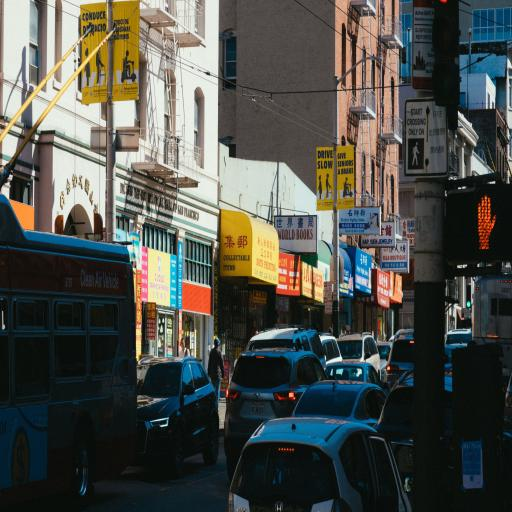car: (227, 418, 411, 511), (224, 346, 326, 479), (136, 357, 219, 477), (293, 380, 386, 426), (247, 327, 325, 365), (325, 362, 388, 389), (337, 333, 380, 372), (385, 330, 414, 387), (444, 374, 452, 502), (377, 336, 395, 381), (320, 333, 342, 364), (445, 344, 467, 373), (445, 329, 472, 345), (504, 377, 511, 430), (138, 356, 154, 365)
